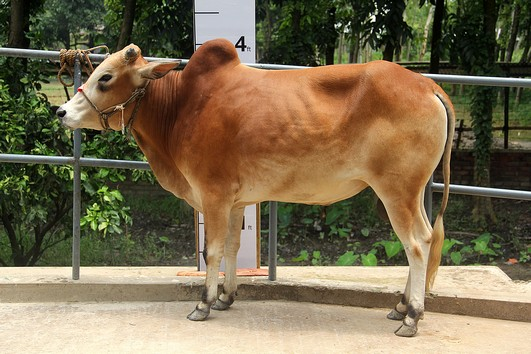cow: (56, 35, 454, 342)
